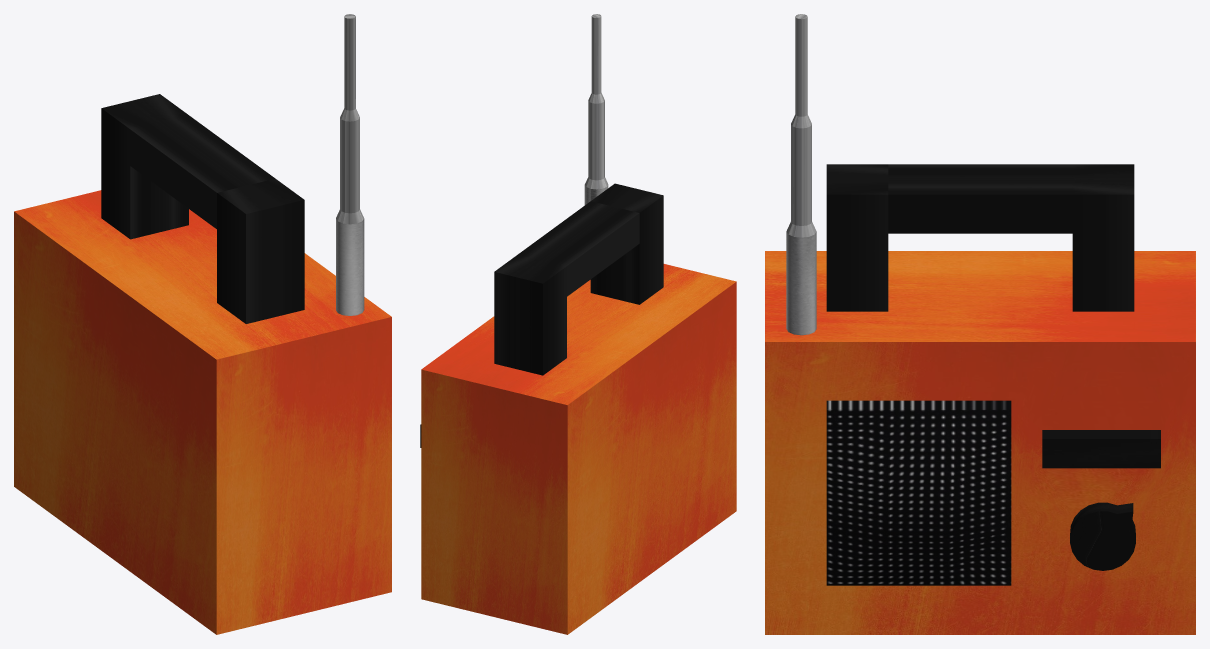
File: ItemRadio.fbx
3 views of the same model, side by side, from view 1: azimuth 30°, elevation 25°; view 2: azimuth 150°, elevation 25°; view 3: azimuth 270°, elevation 25° (orthographic). The views are drawn at different scales.
Visible parts, largest first — view 1: Radio, Handle, Antenna; view 2: Radio, Handle, Antenna; view 3: Radio, Speaker, Handle, Antenna, Bar, Knob.
Boxes of the visible parts, left/top/right/bottom form: Radio: left=14, top=190, right=391, bottom=634; Handle: left=101, top=94, right=304, bottom=323; Antenna: left=336, top=14, right=364, bottom=315; Radio: left=421, top=264, right=736, bottom=634; Handle: left=494, top=183, right=663, bottom=375; Antenna: left=584, top=14, right=608, bottom=205; Radio: left=765, top=251, right=1195, bottom=634; Speaker: left=826, top=400, right=1011, bottom=585; Handle: left=826, top=164, right=1134, bottom=311; Antenna: left=786, top=14, right=816, bottom=335; Bar: left=1042, top=430, right=1160, bottom=468; Knob: left=1070, top=502, right=1135, bottom=570.
Size of the model in its own units: 12.07 by 31.01 by 20.
4 materials, 4 textured.
